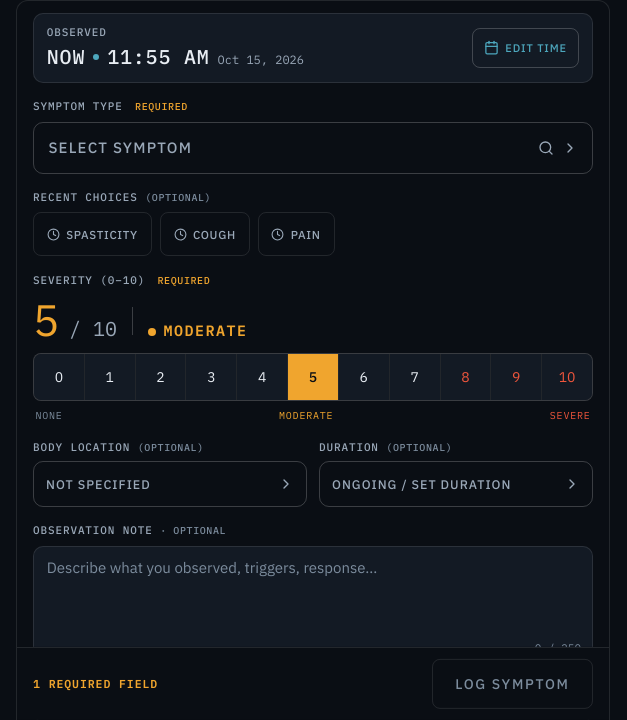
SymptomLogForm › maps severity to clinical bands
This screenshot has width=627, height=720.
Click the radio button labelled "9" at point(516, 377), box [491,354,541,400]
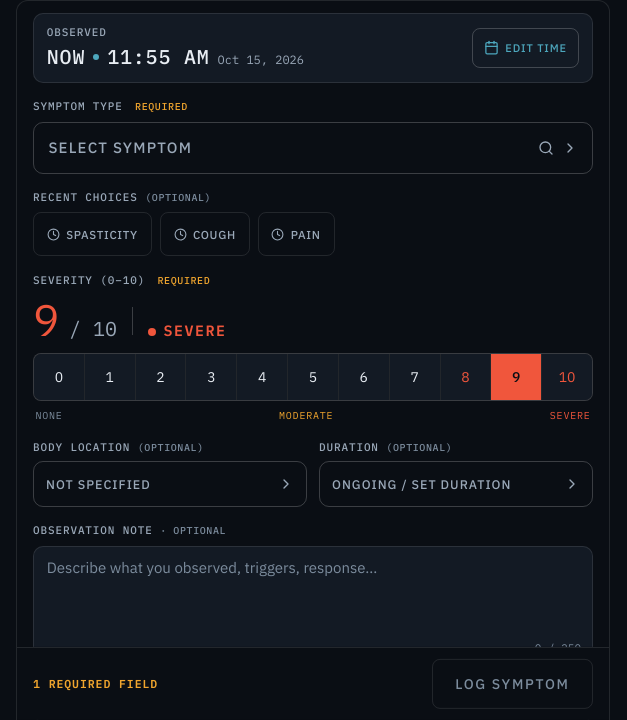
Expected: the element with class "sl-severity-band" reads "Severe", [164,322,227,340]
Click the radio button labelled "2" at point(160, 377), box [136,354,185,400]
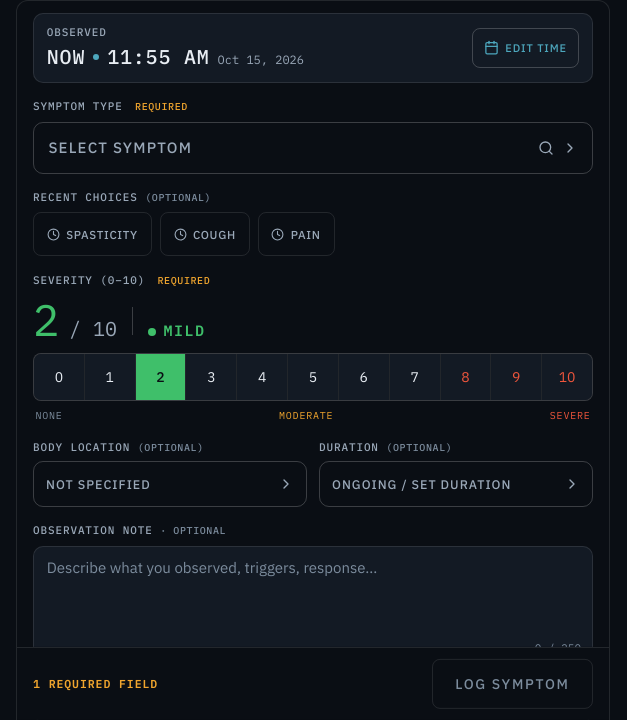
Expected: the element with class "sl-severity-band" reads "Mild", [164,322,206,340]
Click the radio button labelled "0" at point(59, 377), box [34,354,84,400]
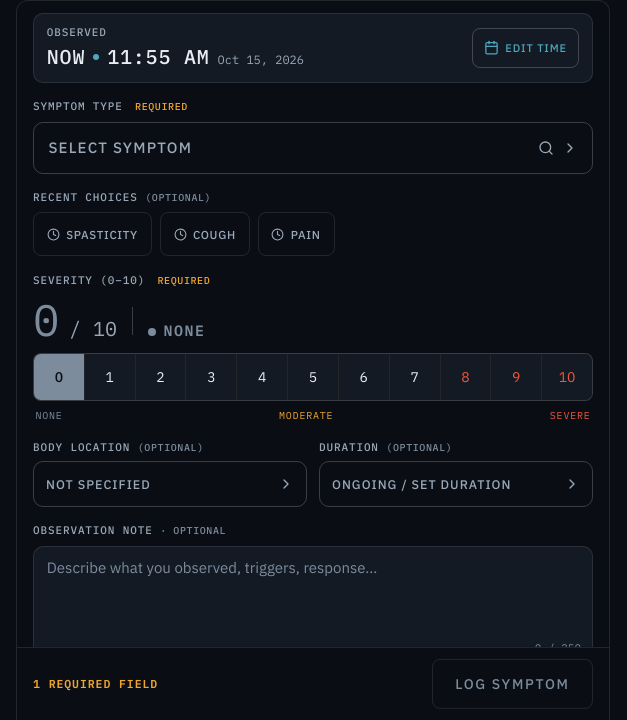
Expected: the element with class "sl-severity-band" reads "None", [164,322,206,340]
